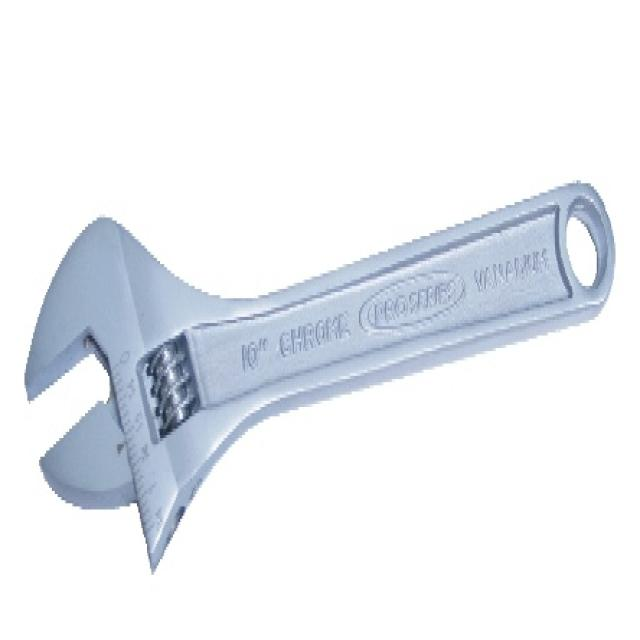wrench: (14, 140, 640, 633)
